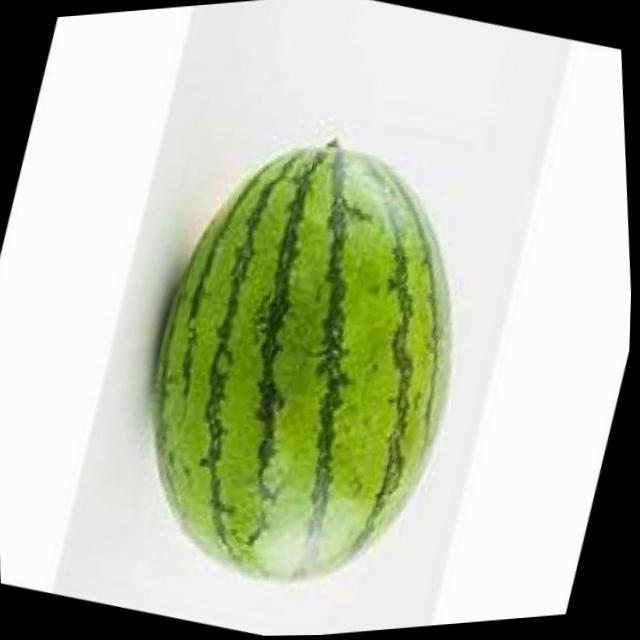watermelon: (134, 130, 472, 590)
